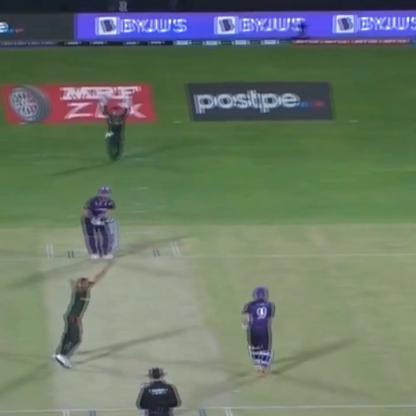pitch: (38, 243, 243, 415)
